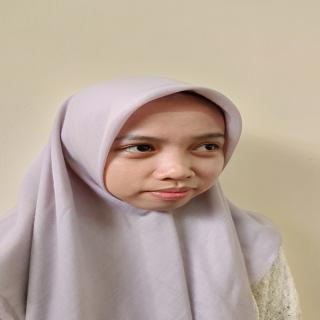Takut: (97, 90, 246, 217)
